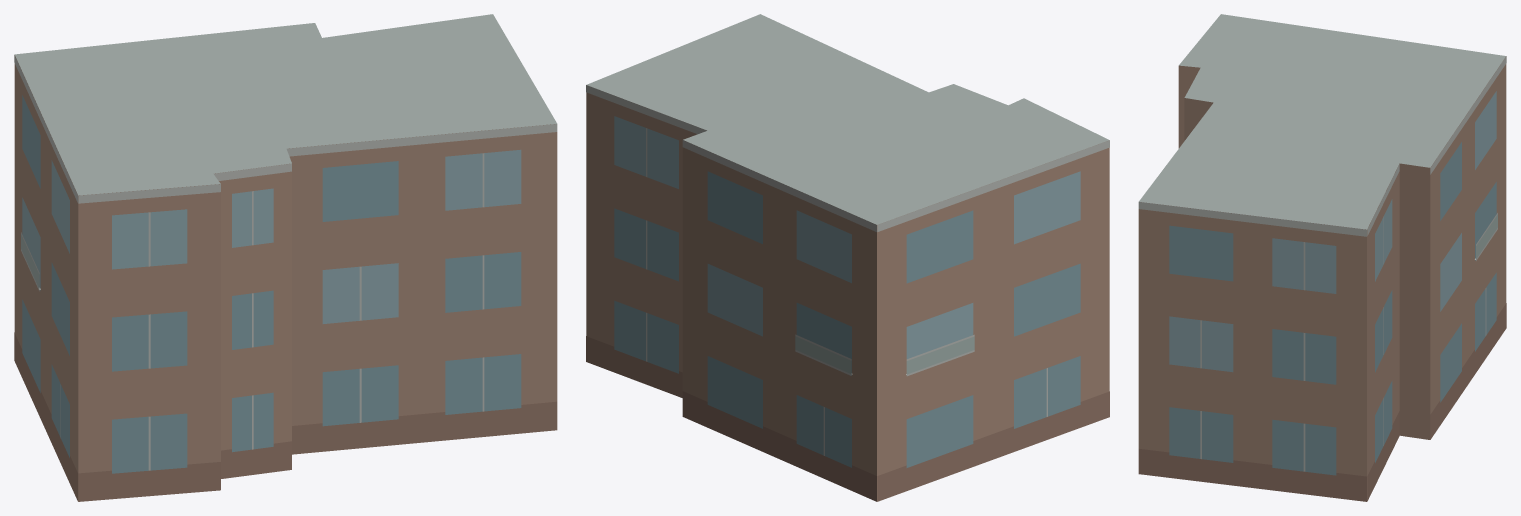
The model's file is survey-upis-32875146.glb.
3 views of the same model, side by side, from view 1: azimuth 30°, elevation 25°; view 2: azimuth 150°, elevation 25°; view 3: azimuth 270°, elevation 25° (orthographic). The views are drawn at different scales.
Visible parts, largest first — view 1: survey-upis-32875146.tmp; view 2: survey-upis-32875146.tmp; view 3: survey-upis-32875146.tmp.
Boxes of the visible parts, bbox=[...] form: survey-upis-32875146.tmp: bbox=[14, 14, 557, 501]; survey-upis-32875146.tmp: bbox=[586, 14, 1109, 501]; survey-upis-32875146.tmp: bbox=[1138, 14, 1506, 501].
Size of the model in its own units: 15.55 by 9.15 by 11.21.
